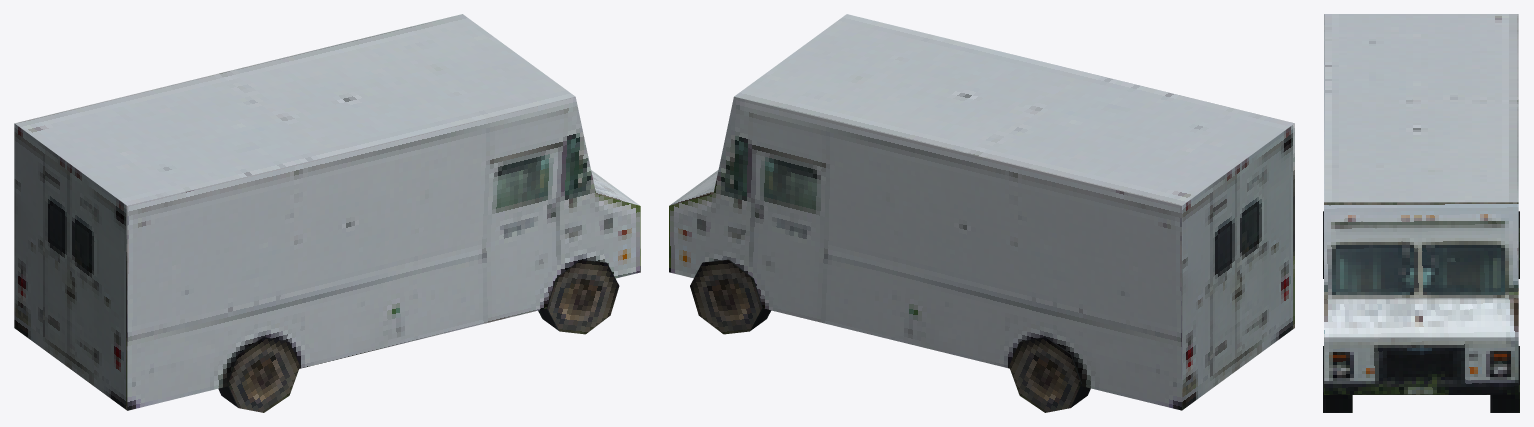
The model's file is white_van_-_ps1_low_poly.glb.
3 renders of one model, left to right at view 1: azimuth 30°, elevation 25°; view 2: azimuth 150°, elevation 25°; view 3: azimuth 270°, elevation 25°, orthographic. The views are drawn at different scales.
Visible parts, largest first — view 1: Cube; view 2: Cube; view 3: Cube.
Part boxes in pixels (x1,y1,x2,y2): Cube: (14, 14, 640, 412); Cube: (669, 14, 1294, 412); Cube: (1323, 14, 1519, 412).
Size of the model in its own units: 7.1 by 3.17 by 2.74.
1 material, 1 textured.
